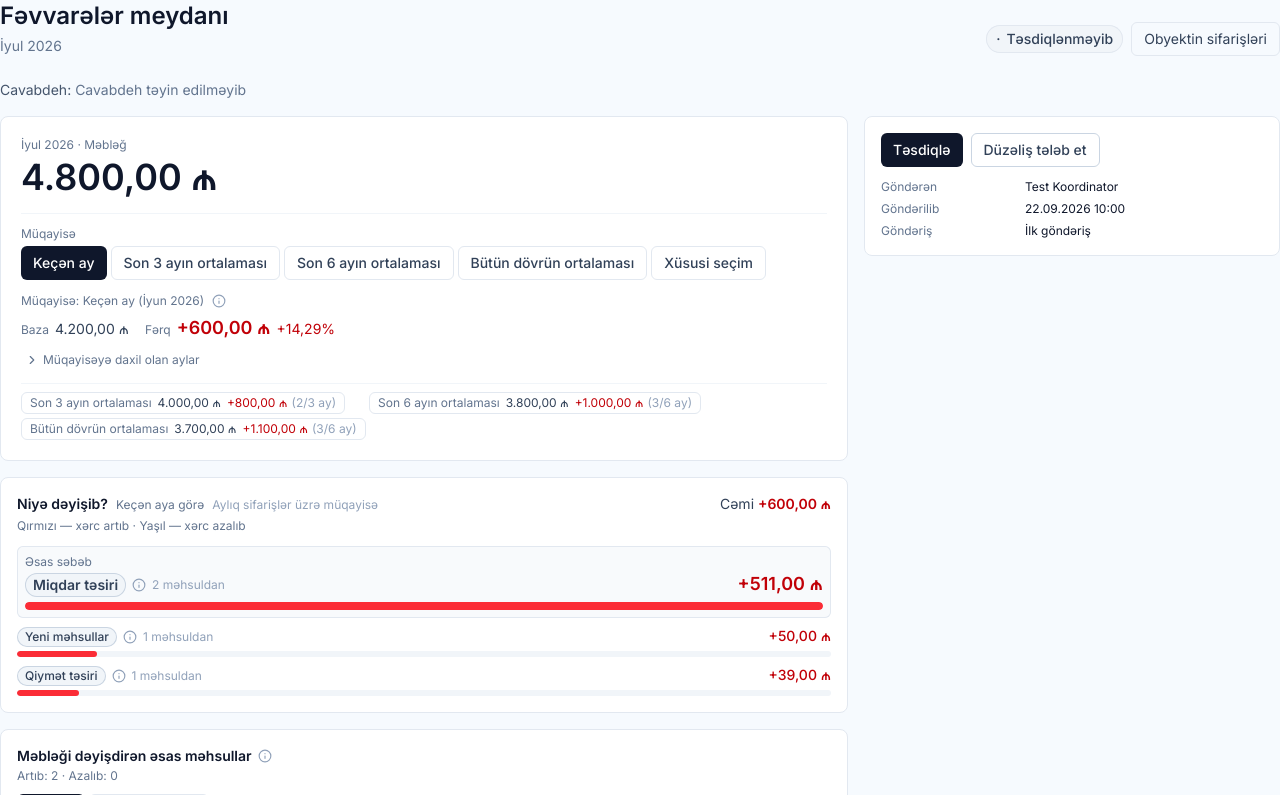
the order of the page on a phone: what happened, why, then the decision › keeps the decision buttons at the bottom of a phone screen, the Rəhbər’s two among them
This screenshot has width=1280, height=795.
Check: the element named "Sifarişin məbləği və müqayisəsi" is shown, box [0,116,848,461]
Click the button "Düzəliş tələb et" at (1035, 150), box [970,133,1100,167]
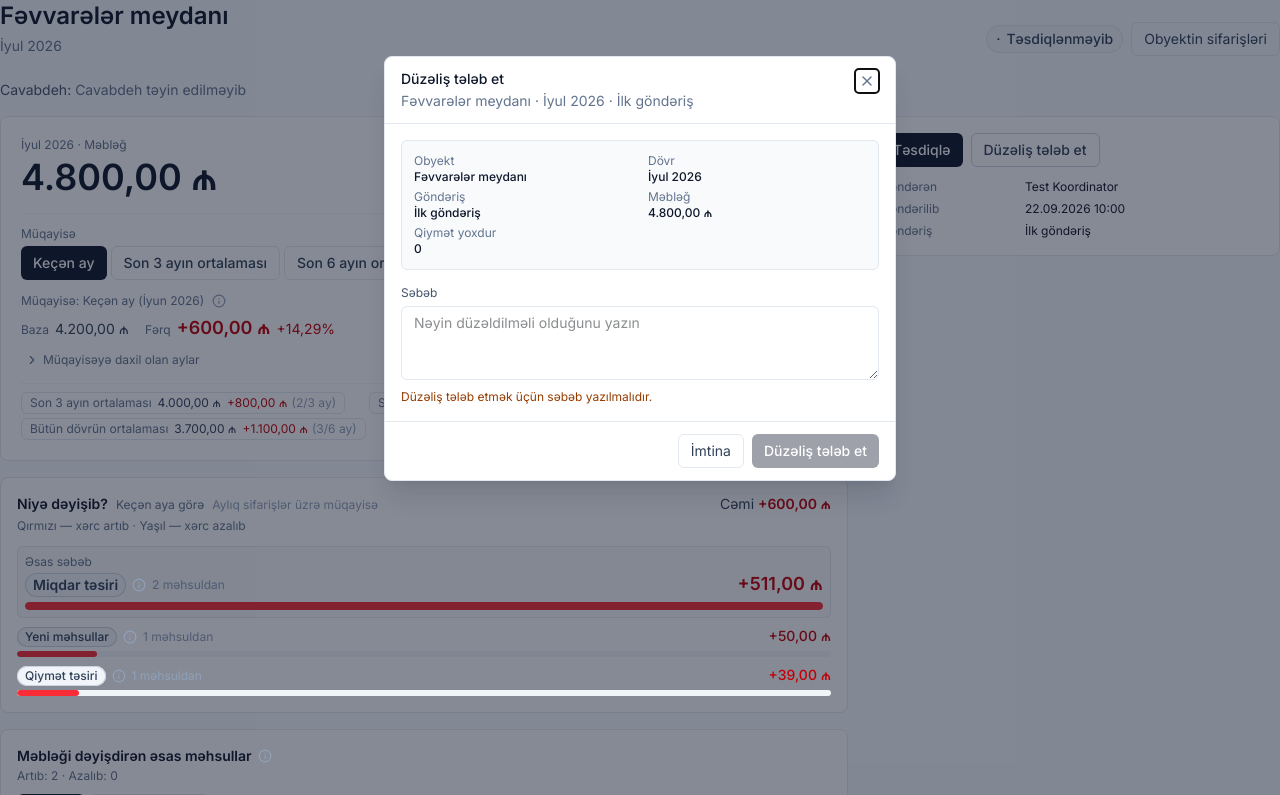
Check: the dialog is shown, box [384,56,896,481]
